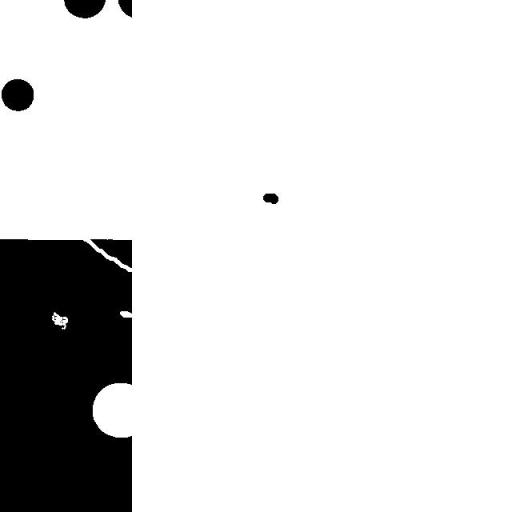copper: (255, 186, 286, 211)
mousebite: (112, 303, 141, 325)
open: (75, 230, 145, 282)
pin-hole: (44, 304, 75, 337)
